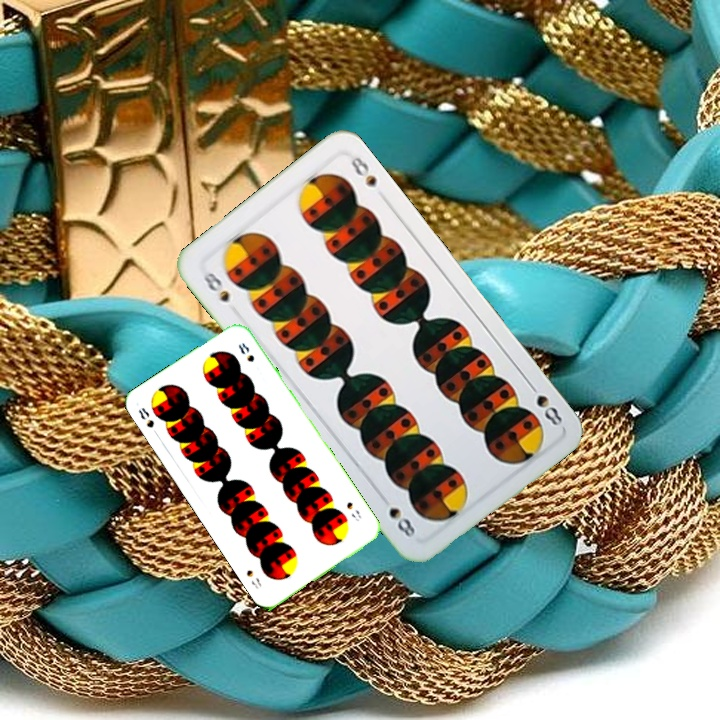S8: (523, 377, 565, 429), (199, 268, 233, 305), (134, 403, 161, 439), (342, 497, 364, 524)
